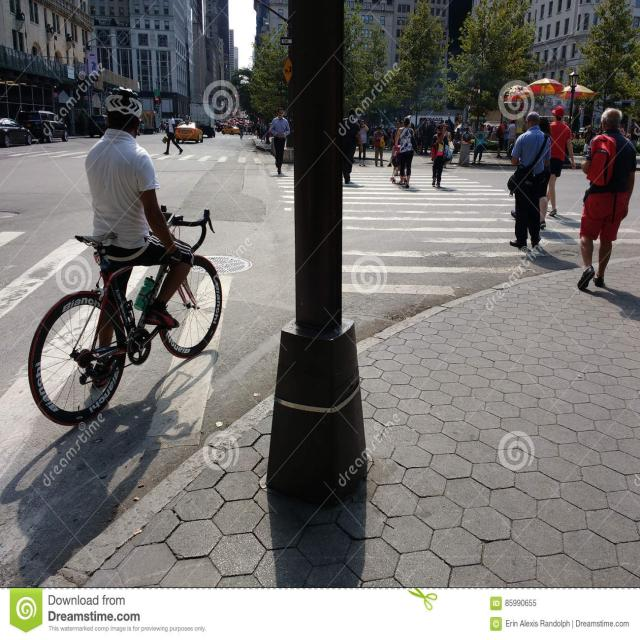body: (84, 84, 182, 388), (15, 400, 170, 590), (576, 105, 638, 290), (508, 109, 552, 250), (509, 116, 552, 230), (546, 105, 576, 216), (592, 286, 640, 324), (342, 109, 363, 184), (394, 115, 415, 188), (430, 124, 452, 188), (270, 106, 290, 175), (542, 212, 580, 248), (526, 251, 577, 276), (162, 111, 183, 156), (387, 119, 403, 168), (471, 124, 487, 166), (356, 119, 369, 167), (372, 124, 385, 167), (215, 112, 238, 134), (244, 115, 268, 136), (436, 114, 470, 126), (496, 120, 508, 152), (582, 125, 594, 157), (506, 119, 516, 156), (394, 149, 406, 177), (416, 116, 424, 156), (383, 122, 394, 151), (425, 119, 434, 153), (420, 116, 428, 154), (629, 118, 640, 144), (451, 127, 462, 153), (570, 125, 586, 141), (432, 183, 455, 193), (469, 110, 486, 123), (398, 184, 420, 194), (343, 180, 363, 190), (461, 126, 472, 144), (485, 123, 493, 141), (503, 125, 508, 152), (444, 126, 452, 142), (620, 125, 630, 137), (270, 172, 288, 178), (593, 123, 602, 134), (238, 122, 243, 140), (491, 125, 496, 140), (237, 114, 244, 122), (483, 124, 488, 134), (563, 120, 568, 124)
